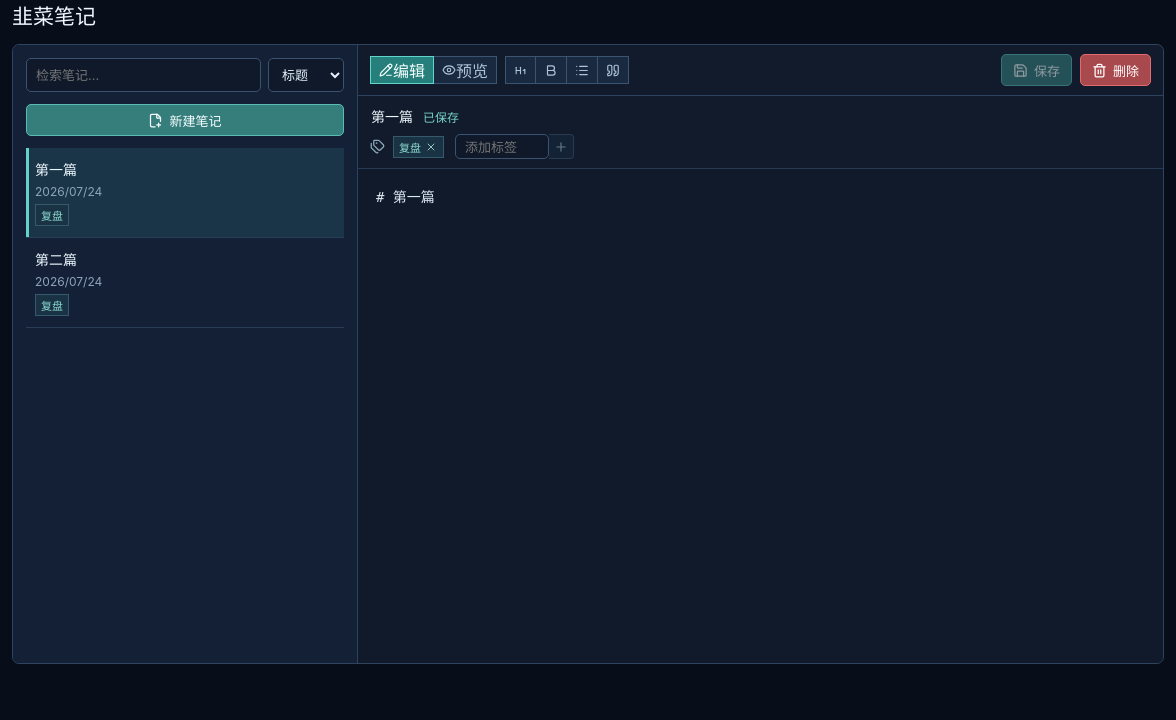
Test case: LeekNotesView › can discard an unsaved draft before selecting another note
The width and height of the screenshot is (1176, 720).
Replace the text in the text box named "笔记内容" with "# 已修改" at [760, 416], box [358,168,1163,663]
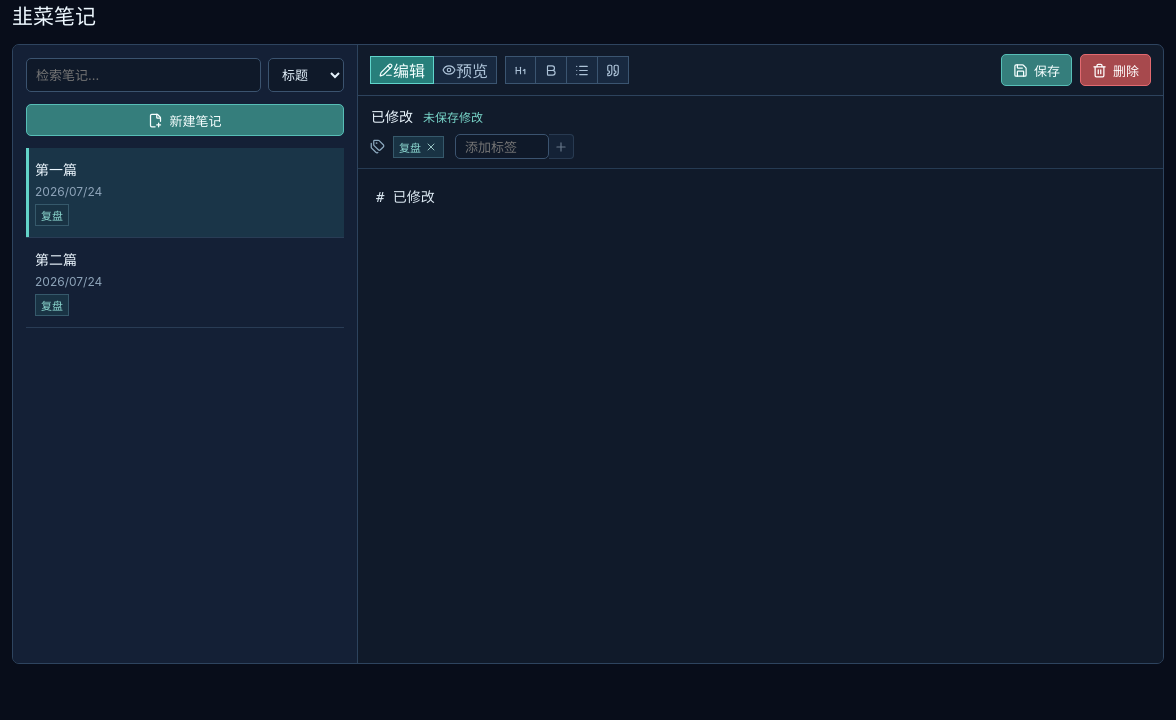
Click the button "第二篇 2026/07/24 复盘" at [56, 260], box [26,238,344,328]
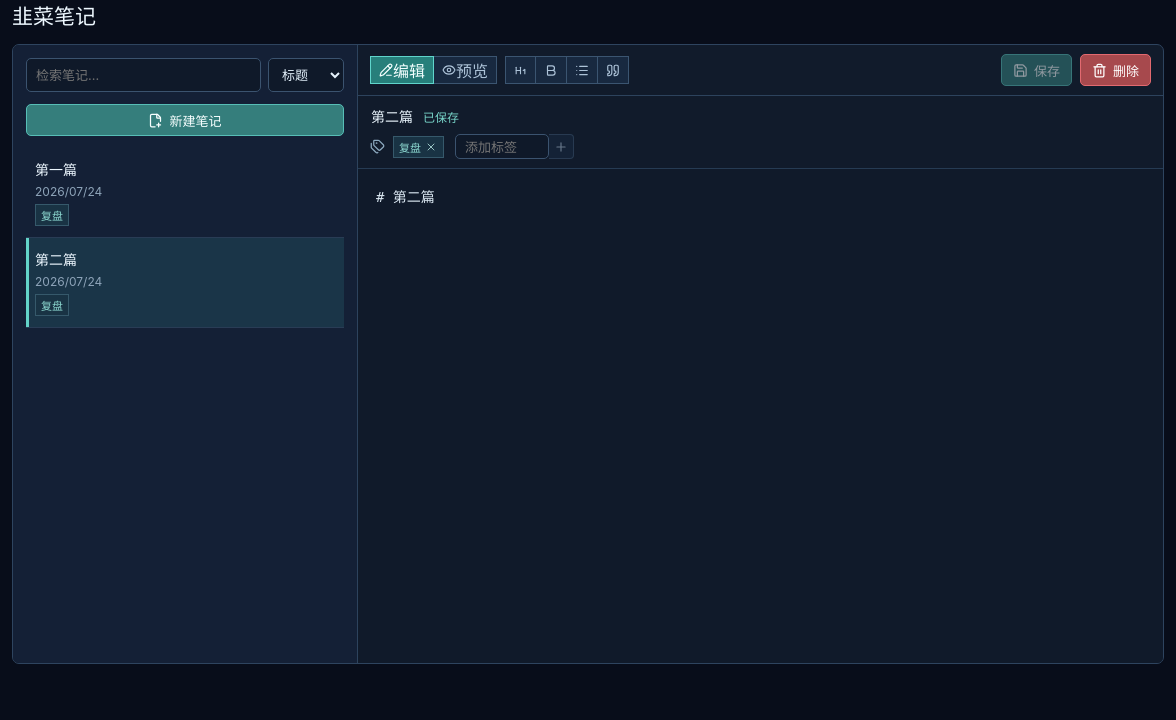
Check: the text box named "笔记内容" holds "# 第二篇", box [358,168,1163,663]
